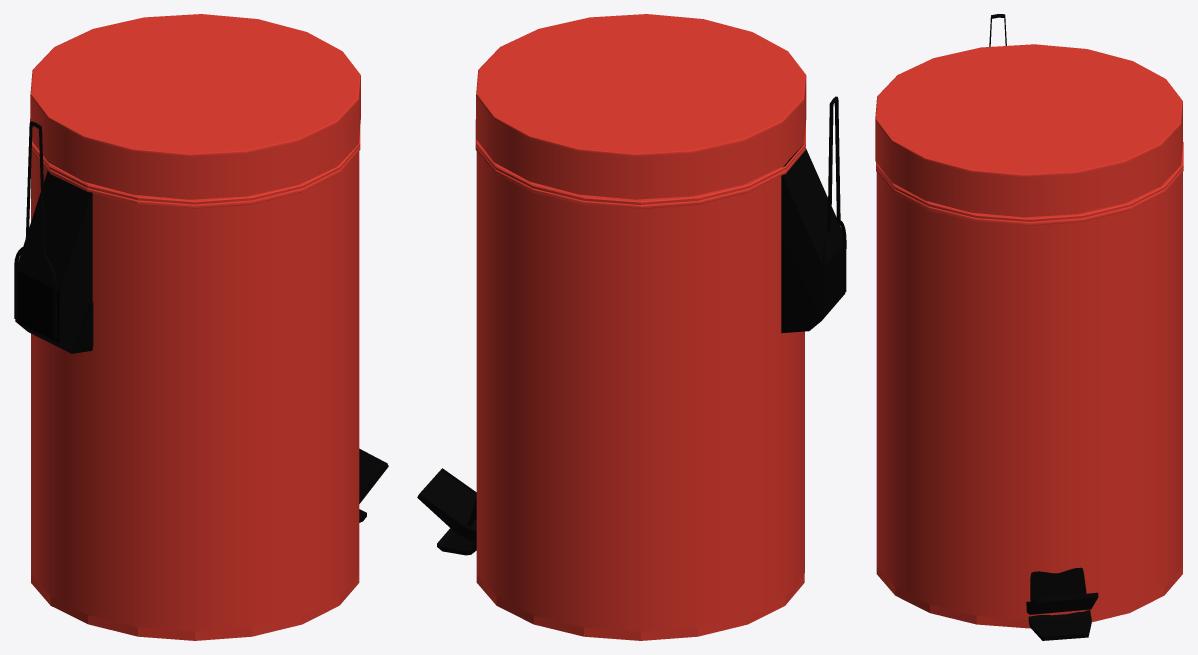
Rendered from trash_can.FBX.
3 views of the same model, side by side, from view 1: azimuth 30°, elevation 25°; view 2: azimuth 150°, elevation 25°; view 3: azimuth 270°, elevation 25° (orthographic). The views are drawn at different scales.
Visible parts, largest first — view 1: Obj3d66-499203-1-25, Obj3d66-499203-1-026, Obj3d66-499203-2-533, Obj3d66-499203-3-392; view 2: Obj3d66-499203-1-25, Obj3d66-499203-1-026, Obj3d66-499203-2-533, Obj3d66-499203-3-392, Obj3d66-499203-6-435, Obj3d66-499203-4-124, Obj3d66-499203-7-85; view 3: Obj3d66-499203-1-25, Obj3d66-499203-1-026, Obj3d66-499203-7-85, Obj3d66-499203-5-200, Obj3d66-499203-4-124.
Part boxes in pixels (box(x1,y1,x2,y2)): Obj3d66-499203-1-25: box(30, 119, 360, 640); Obj3d66-499203-1-026: box(30, 14, 360, 199); Obj3d66-499203-2-533: box(15, 166, 93, 353); Obj3d66-499203-3-392: box(14, 121, 57, 338); Obj3d66-499203-1-25: box(475, 119, 805, 640); Obj3d66-499203-1-026: box(476, 14, 806, 199); Obj3d66-499203-2-533: box(781, 144, 846, 333); Obj3d66-499203-3-392: box(821, 96, 846, 316); Obj3d66-499203-6-435: box(422, 471, 476, 524); Obj3d66-499203-4-124: box(417, 468, 476, 542); Obj3d66-499203-7-85: box(437, 528, 476, 555); Obj3d66-499203-1-25: box(876, 142, 1183, 628); Obj3d66-499203-1-026: box(875, 44, 1182, 217); Obj3d66-499203-7-85: box(1028, 610, 1091, 640); Obj3d66-499203-5-200: box(1030, 567, 1086, 600); Obj3d66-499203-4-124: box(1026, 592, 1098, 614).
Size of the model in its own units: 11.25 by 14.22 by 8.49.
